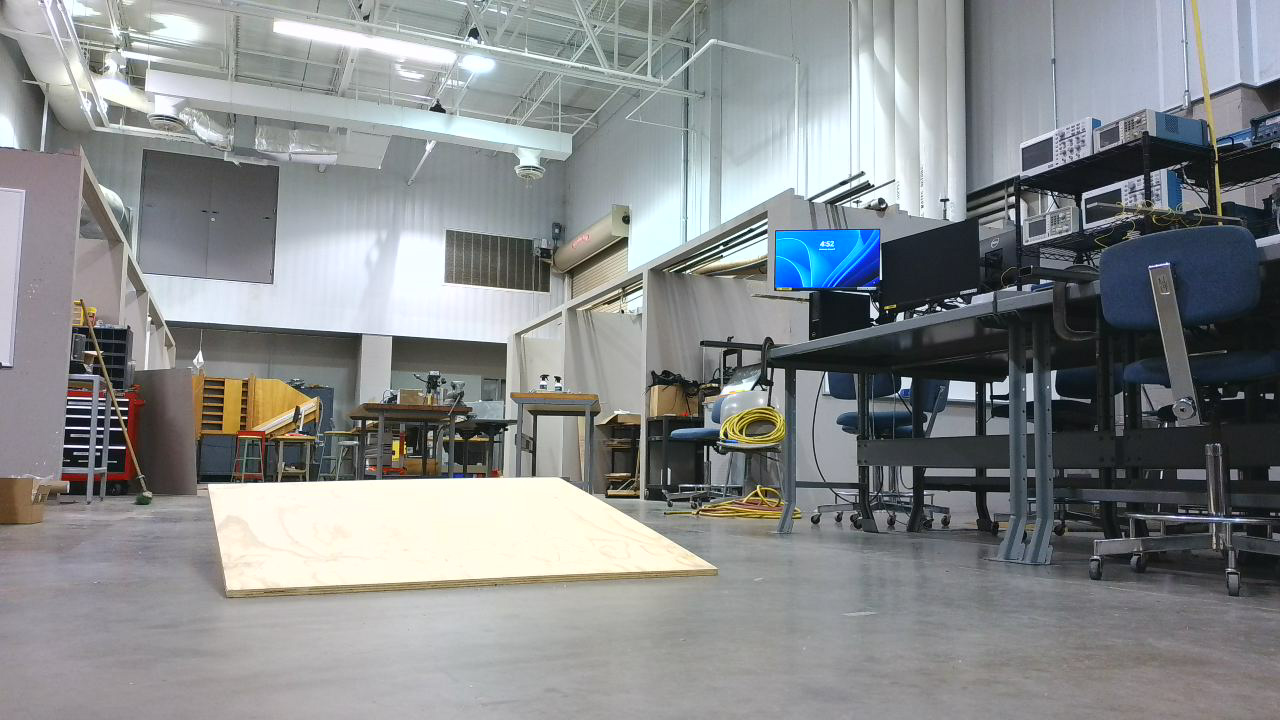ramp: (207, 478, 725, 606)
